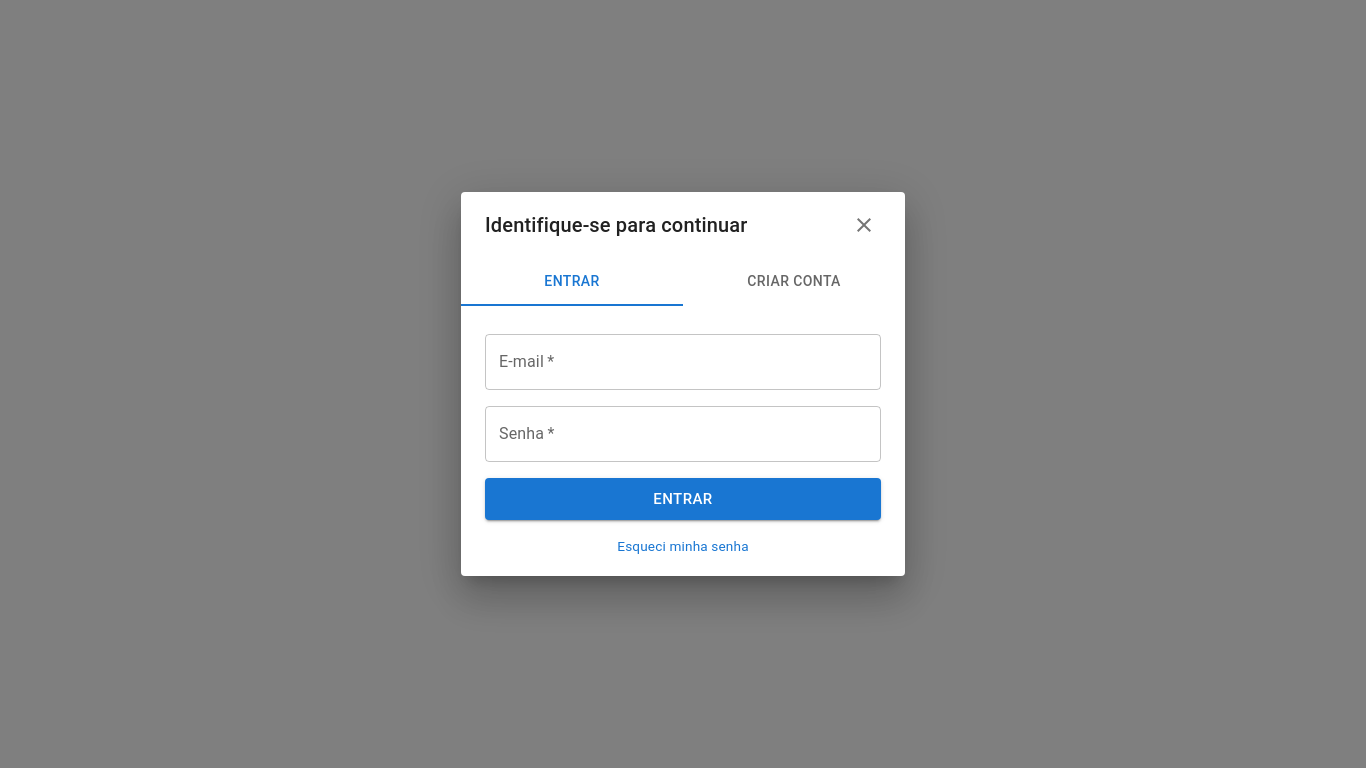
Test: AuthDialog › aba de cadastro mostra os campos nome e telefone
Click the tab "Criar conta" at (794, 282), box [683,258,905,306]
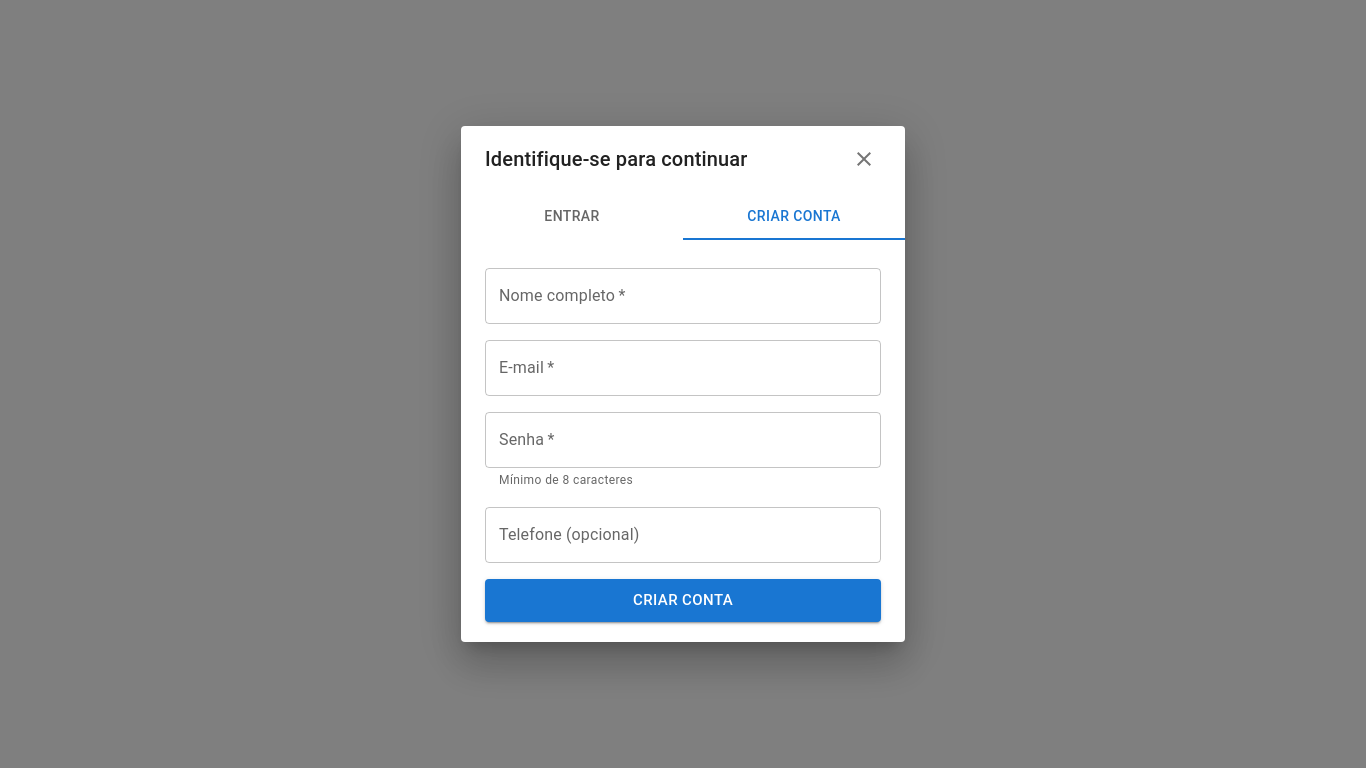
Now the field labelled "Nome completo" is shown, box [485,268,881,324]
Now the field labelled "Telefone (opcional)" is shown, box [485,507,881,563]
Now the button "Esqueci minha senha" is gone
